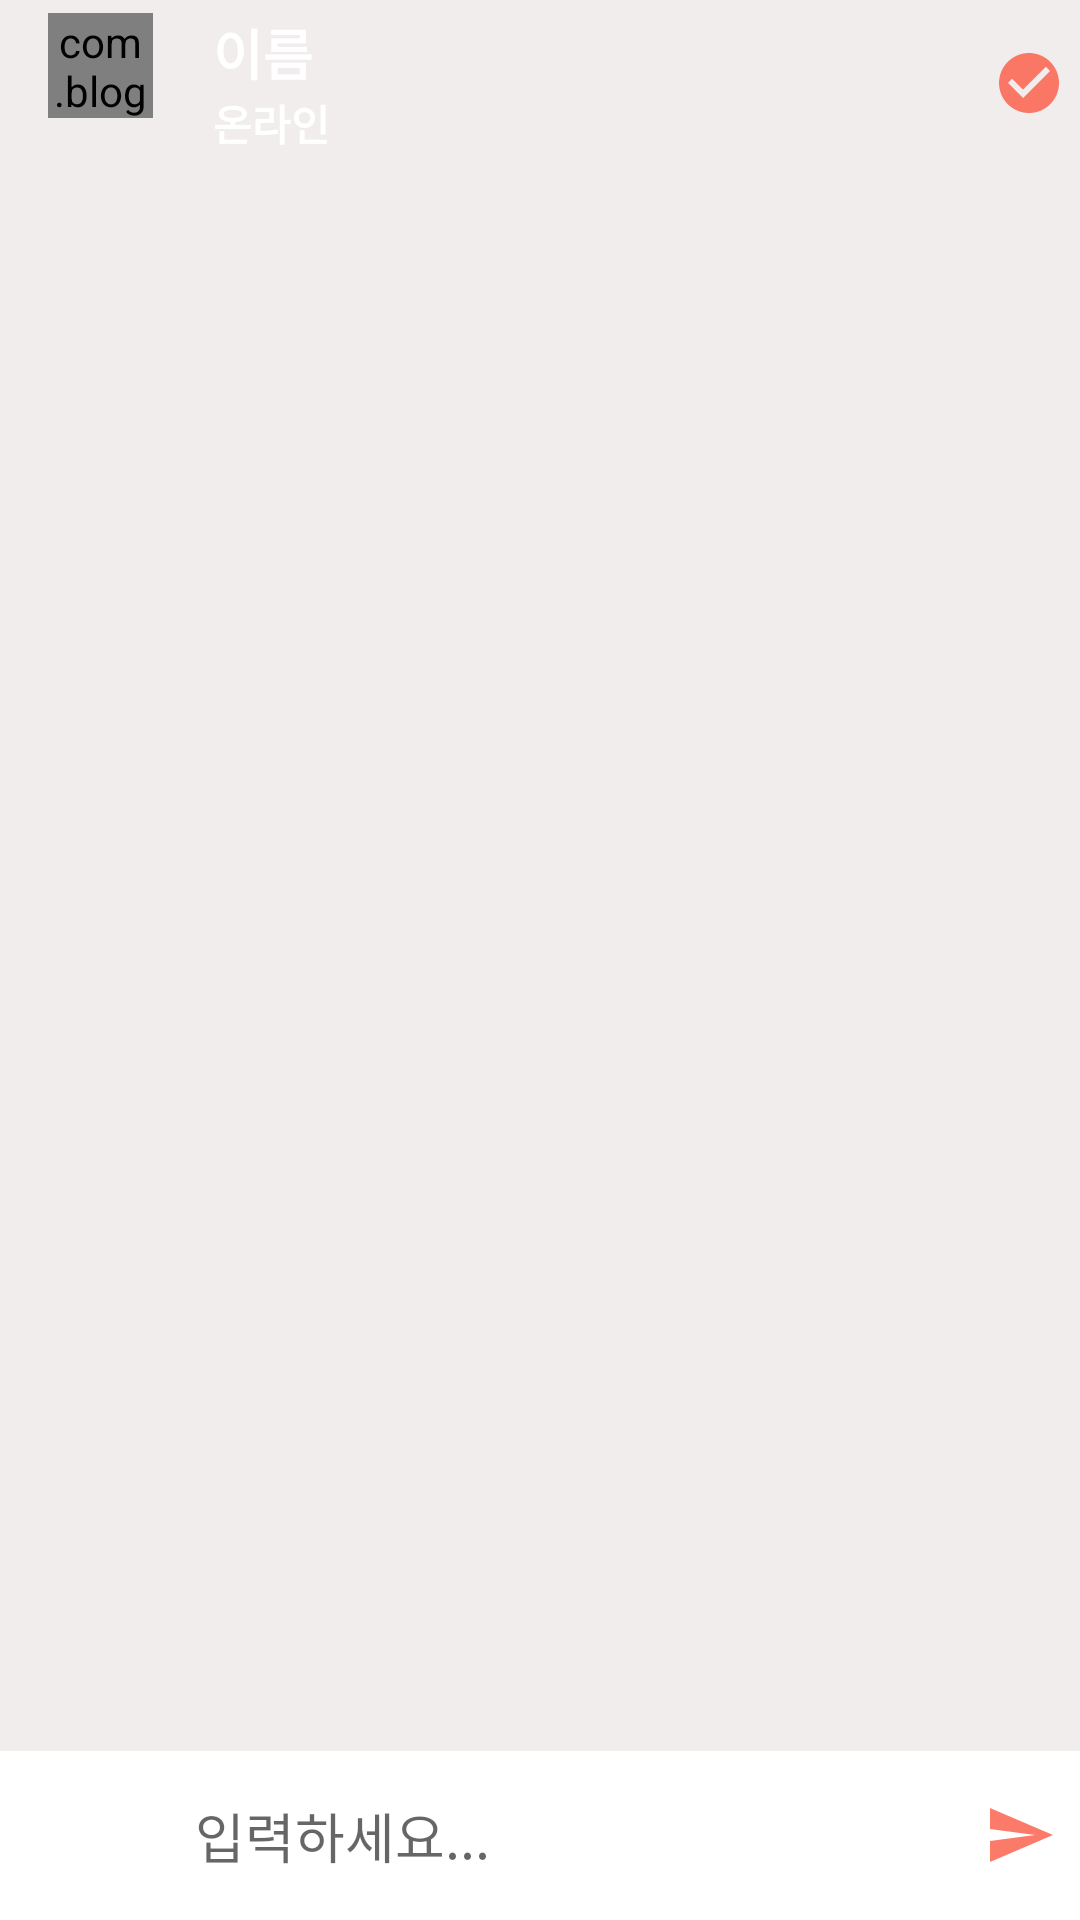

Icons on this 1080 x 1920 Android screen, each with its box as (left=x1, top=y1, right=x2, bottom=y2):
send: (left=990, top=1808, right=1053, bottom=1862)
